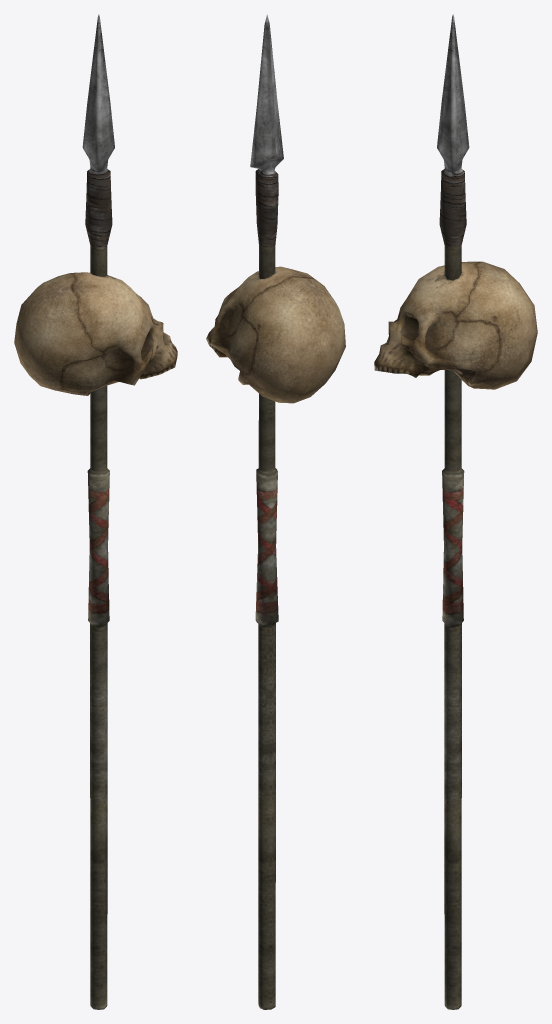
Rendered from human skull mesh.FBX.
The picture shows the model from 3 angles, left to right: view 1: azimuth 90°, elevation 25°; view 2: azimuth 210°, elevation 25°; view 3: azimuth 270°, elevation 25°; orthographic projection.
Visible parts, largest first — view 1: spear005, Plane005; view 2: spear005, Plane005; view 3: spear005, Plane005.
Part boxes in pixels (bbox=[...]): spear005: bbox=[82, 14, 114, 1009]; Plane005: bbox=[14, 272, 177, 395]; spear005: bbox=[250, 14, 283, 1009]; Plane005: bbox=[206, 266, 345, 403]; spear005: bbox=[437, 14, 469, 1009]; Plane005: bbox=[374, 261, 537, 389].
Size of the model in its own units: 16.06 by 153 by 22.78.
